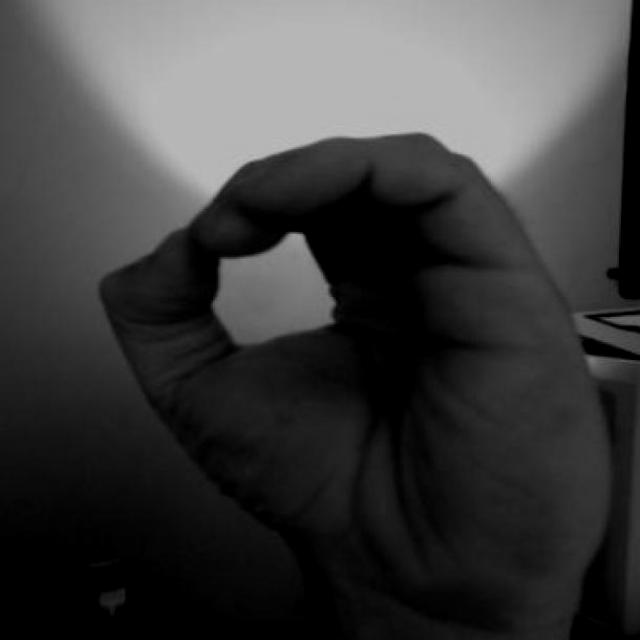O: (71, 95, 635, 640)
